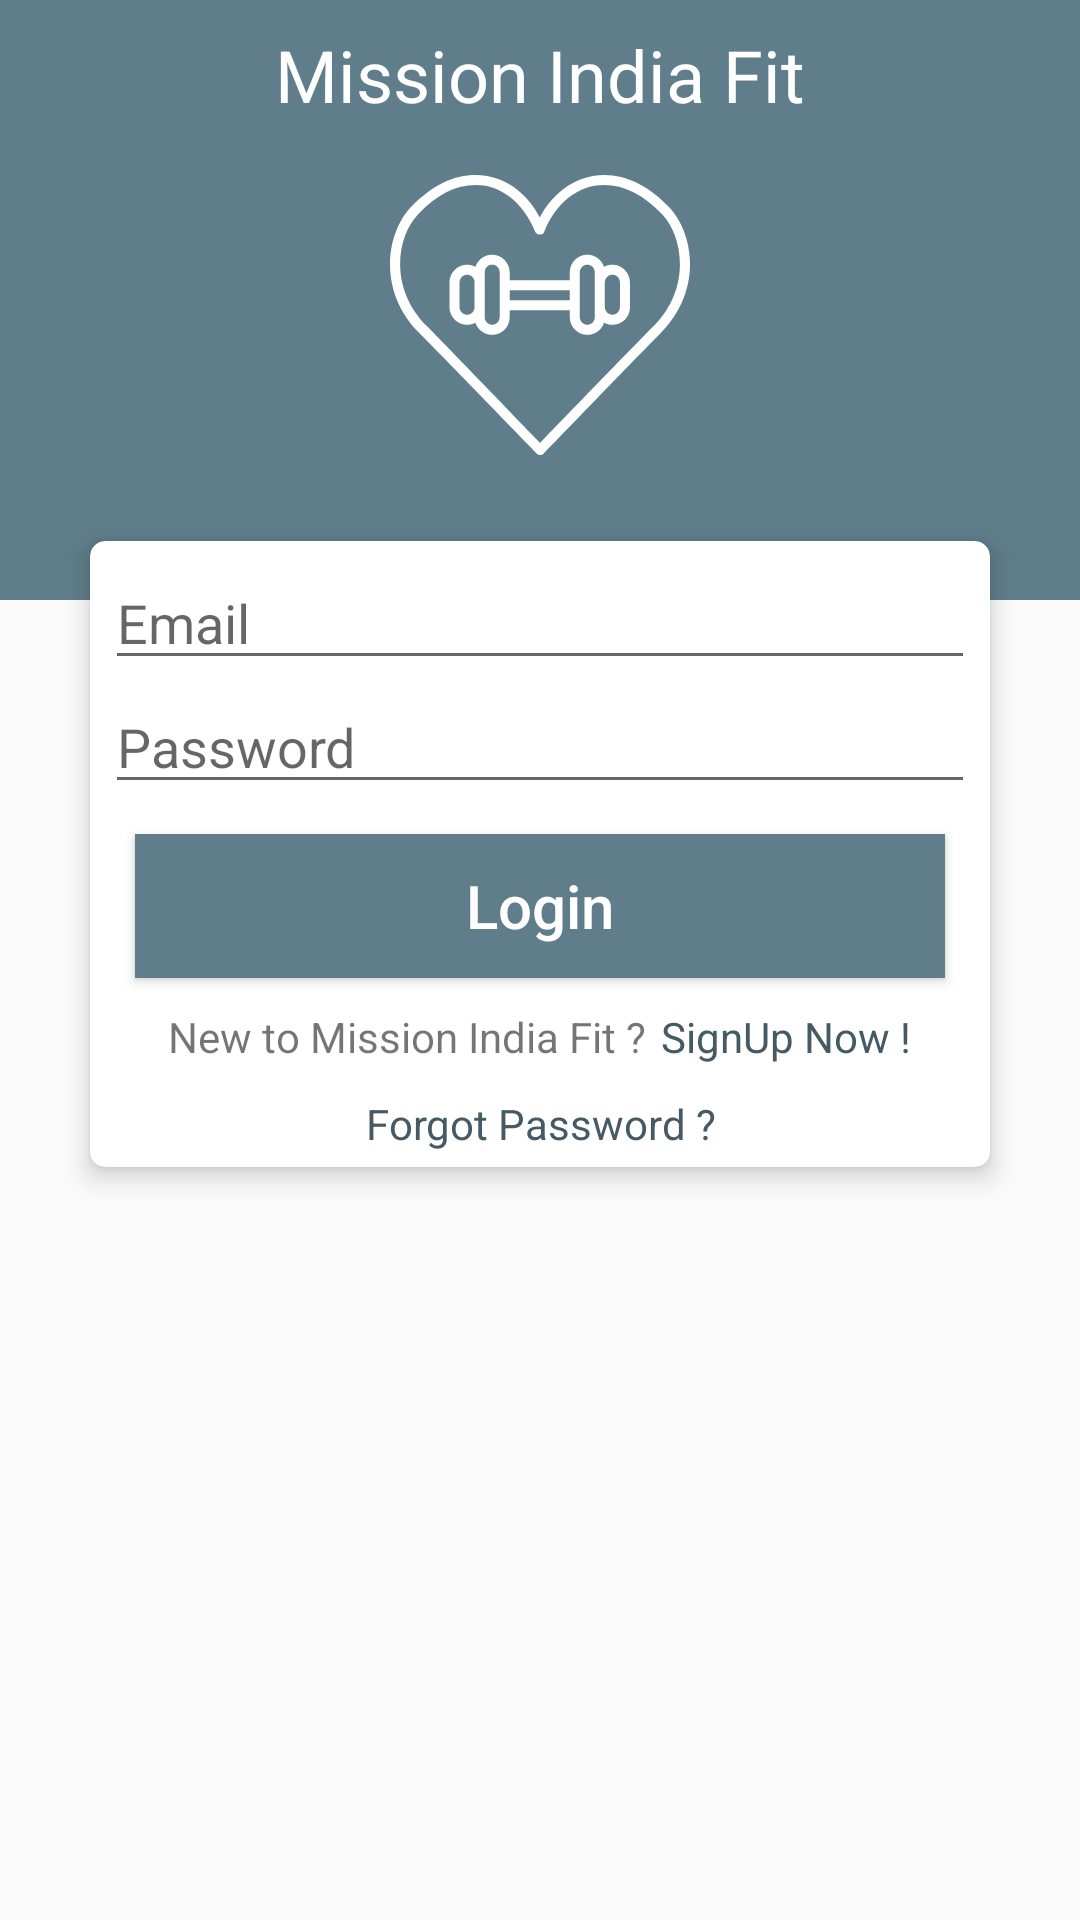

Icon bounding boxes for this 1080×1920 phone screenshot, format box(x1, y1, x2, y2):
gym: box(390, 175, 690, 455)
